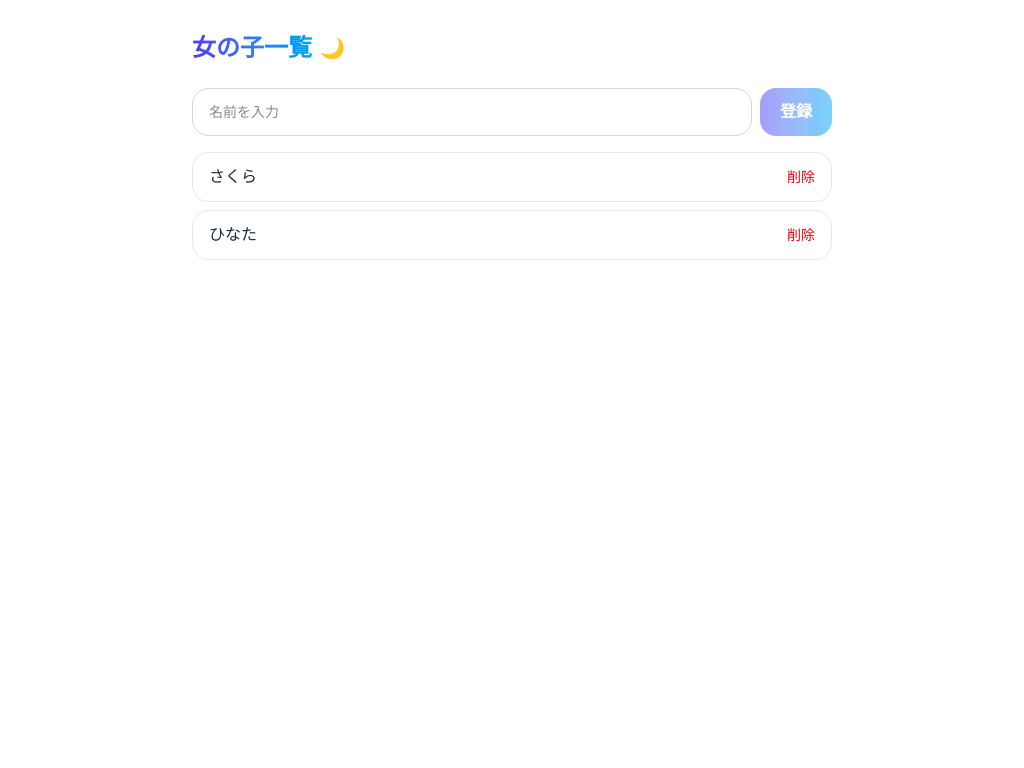
Test case: 女の子一覧ページ › 削除ボタン→ダイアログのキャンセルで削除されない
expect the text "さくら" is shown: met, box [209,165,257,189]
Click the button "削除" in the row of "さくら" at (801, 177), box [787,167,815,187]
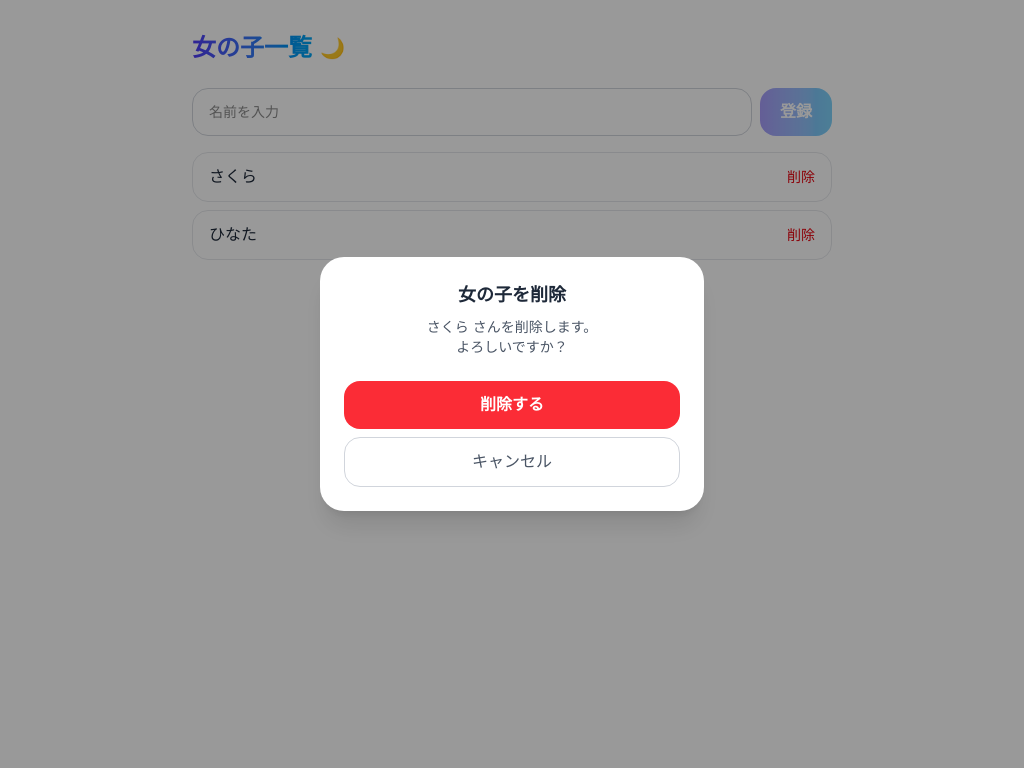
expect the button "削除する" is shown: met, box [344,381,680,429]
Click the button "キャンセル" at (512, 462), box [344,437,680,487]
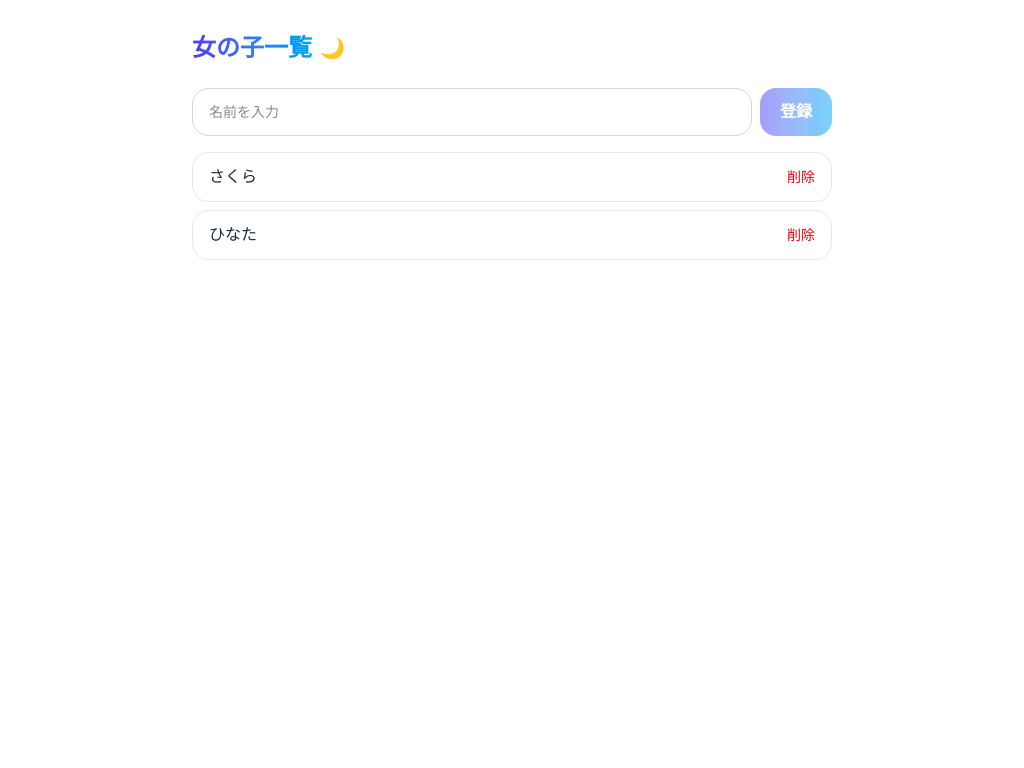
expect the text "さくら" is shown: met, box [209,165,257,189]
expect the button "削除する" is gone: met
